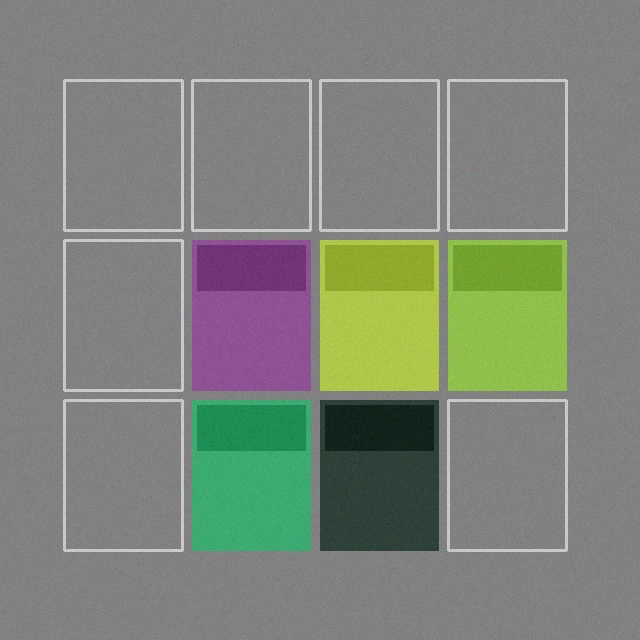space-empty: (64, 80, 182, 230), (192, 80, 310, 230), (320, 80, 438, 230), (448, 80, 566, 230), (64, 240, 182, 390), (64, 400, 182, 550), (448, 400, 566, 550)
space-occupied: (192, 240, 310, 390), (320, 240, 438, 390), (448, 240, 566, 390), (192, 400, 310, 550), (320, 400, 438, 550)
